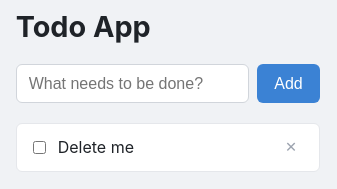
Scenario: deletes a todo
Expected: the text "Delete me" is shown, [58,137,134,157]
Click the button named "delete \"Delete me\"": {"x": 291, "y": 147} [278,136,303,159]
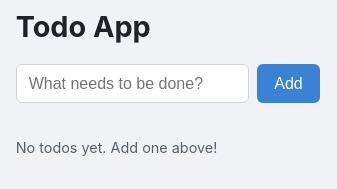
Result: the text "Delete me" is gone
